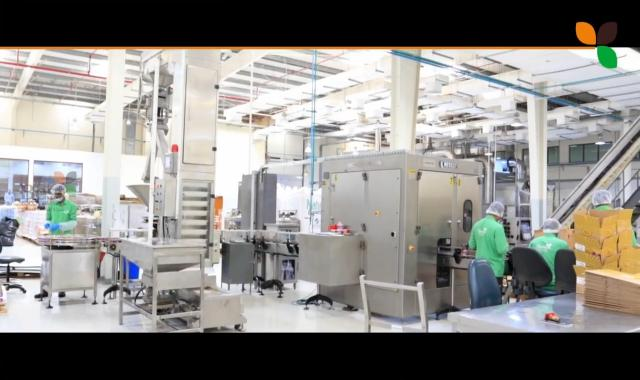hairnet: (590, 188, 612, 210), (486, 200, 505, 221), (49, 182, 66, 198), (542, 220, 560, 234)
